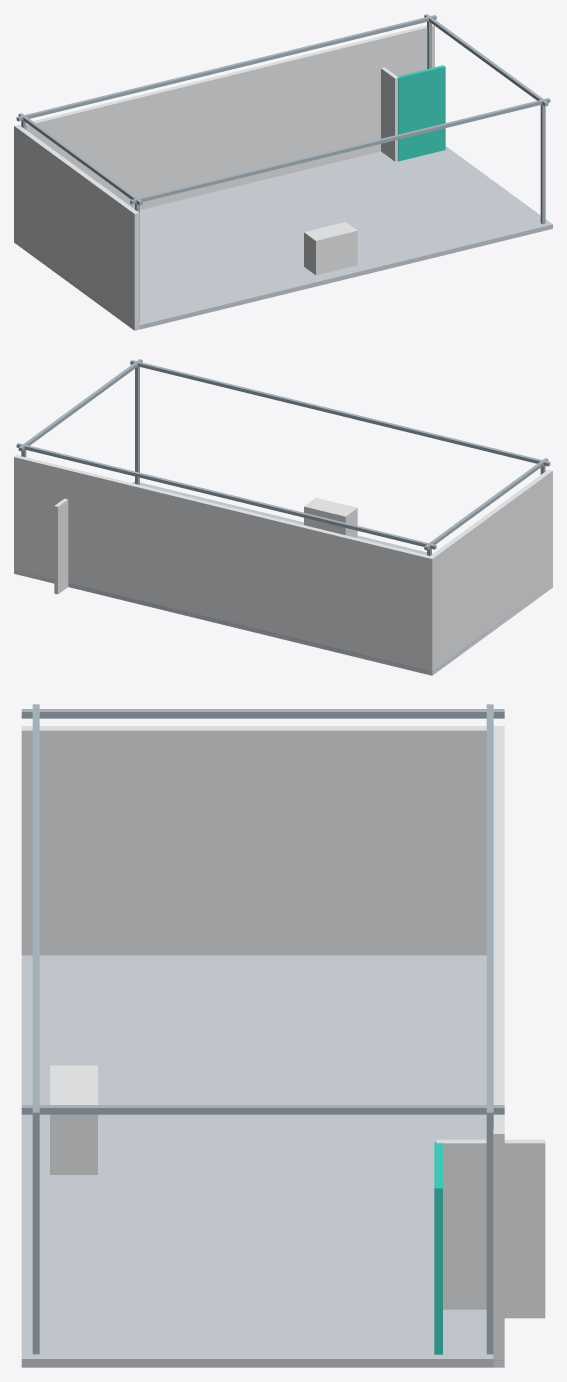
The picture shows the model from 3 angles, top to bottom: view 1: azimuth 30°, elevation 25°; view 2: azimuth 150°, elevation 25°; view 3: azimuth 270°, elevation 25°; orthographic projection. The views are drawn at different scales.
Visible parts, largest first — view 1: Exhibition Booth Concept; view 2: Exhibition Booth Concept; view 3: Exhibition Booth Concept.
Boxes of the visible parts, box(x1,y1,x2,y2) form: Exhibition Booth Concept: box(14, 14, 552, 330); Exhibition Booth Concept: box(14, 359, 552, 675); Exhibition Booth Concept: box(21, 704, 545, 1367).
Size of the model in its own units: 12 by 3.49 by 6.51.
